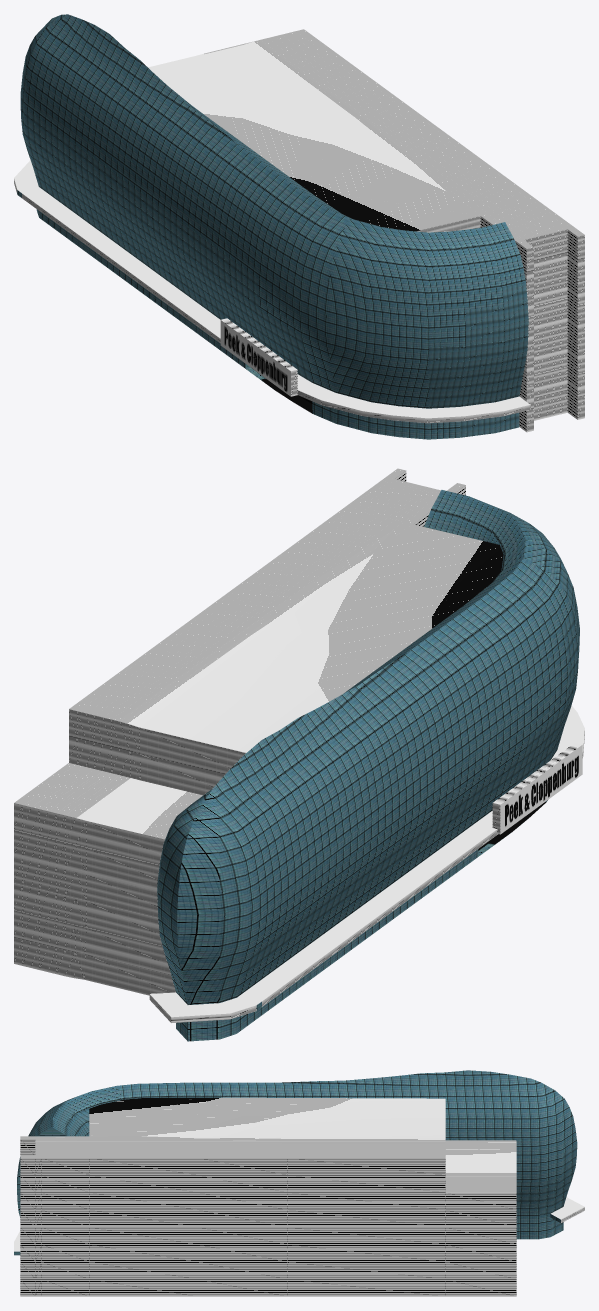
Rendered from PeekAndCloppenburg.fbx.
The picture shows the model from 3 angles, top to bottom: view 1: azimuth 30°, elevation 25°; view 2: azimuth 150°, elevation 25°; view 3: azimuth 270°, elevation 25°; orthographic projection. The views are drawn at different scales.
Visible parts, largest first — view 1: peek&cloppenburg; view 2: peek&cloppenburg; view 3: peek&cloppenburg.
Boxes of the visible parts, bbox=[...] form: peek&cloppenburg: bbox=[14, 14, 584, 439]; peek&cloppenburg: bbox=[14, 468, 584, 1041]; peek&cloppenburg: bbox=[14, 1070, 584, 1296].
Size of the model in its own units: 371 by 333 by 1074.
